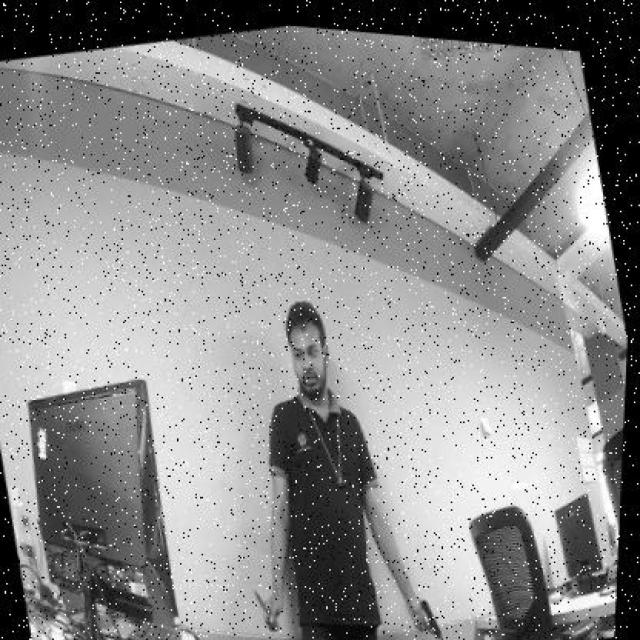weapon: (416, 600, 446, 639)
